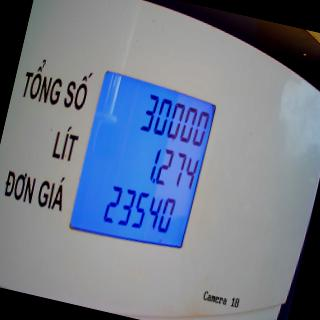screen: (66, 66, 222, 256)
